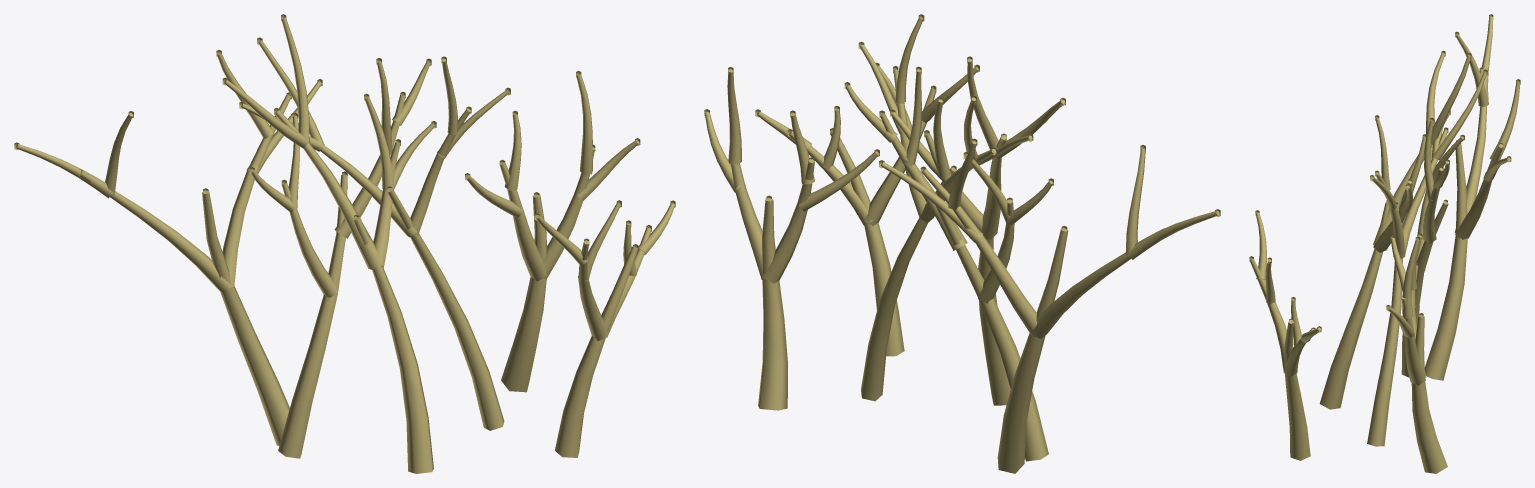
File: coral_gold.glb
The picture shows the model from 3 angles, left to right: view 1: azimuth 30°, elevation 25°; view 2: azimuth 150°, elevation 25°; view 3: azimuth 270°, elevation 25°; orthographic projection. The views are drawn at different scales.
Visible parts, largest first — view 1: coral_gold; view 2: coral_gold; view 3: coral_gold.
Part boxes in pixels (<box>): coral_gold: <box>14,14,675,473</box>; coral_gold: <box>704,14,1220,473</box>; coral_gold: <box>1249,14,1520,473</box>.
Size of the model in its own units: 2.15 by 1.5 by 1.1.
